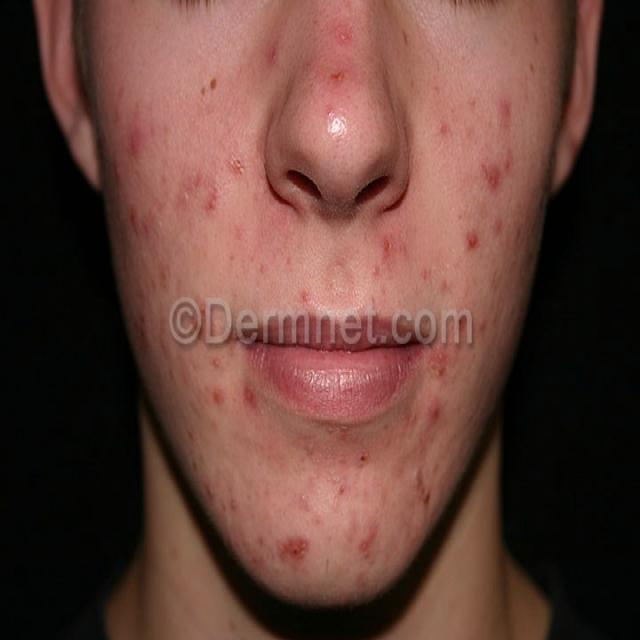Acne: (277, 534, 311, 568), (128, 204, 154, 239), (358, 515, 380, 556), (412, 466, 432, 510), (424, 346, 448, 382), (478, 160, 502, 192), (330, 14, 352, 48), (324, 62, 350, 90), (202, 182, 222, 216), (136, 308, 152, 350), (127, 126, 146, 158), (226, 150, 246, 178), (434, 116, 454, 144), (265, 40, 283, 70), (426, 396, 444, 426), (463, 226, 482, 253), (379, 232, 395, 264), (495, 95, 513, 122), (241, 381, 258, 409), (500, 146, 514, 180), (354, 444, 372, 469), (208, 384, 226, 407), (337, 418, 352, 444), (208, 350, 224, 374), (490, 214, 504, 240), (228, 492, 242, 518), (204, 479, 218, 504), (367, 260, 382, 282), (297, 286, 313, 306), (474, 314, 489, 335)
